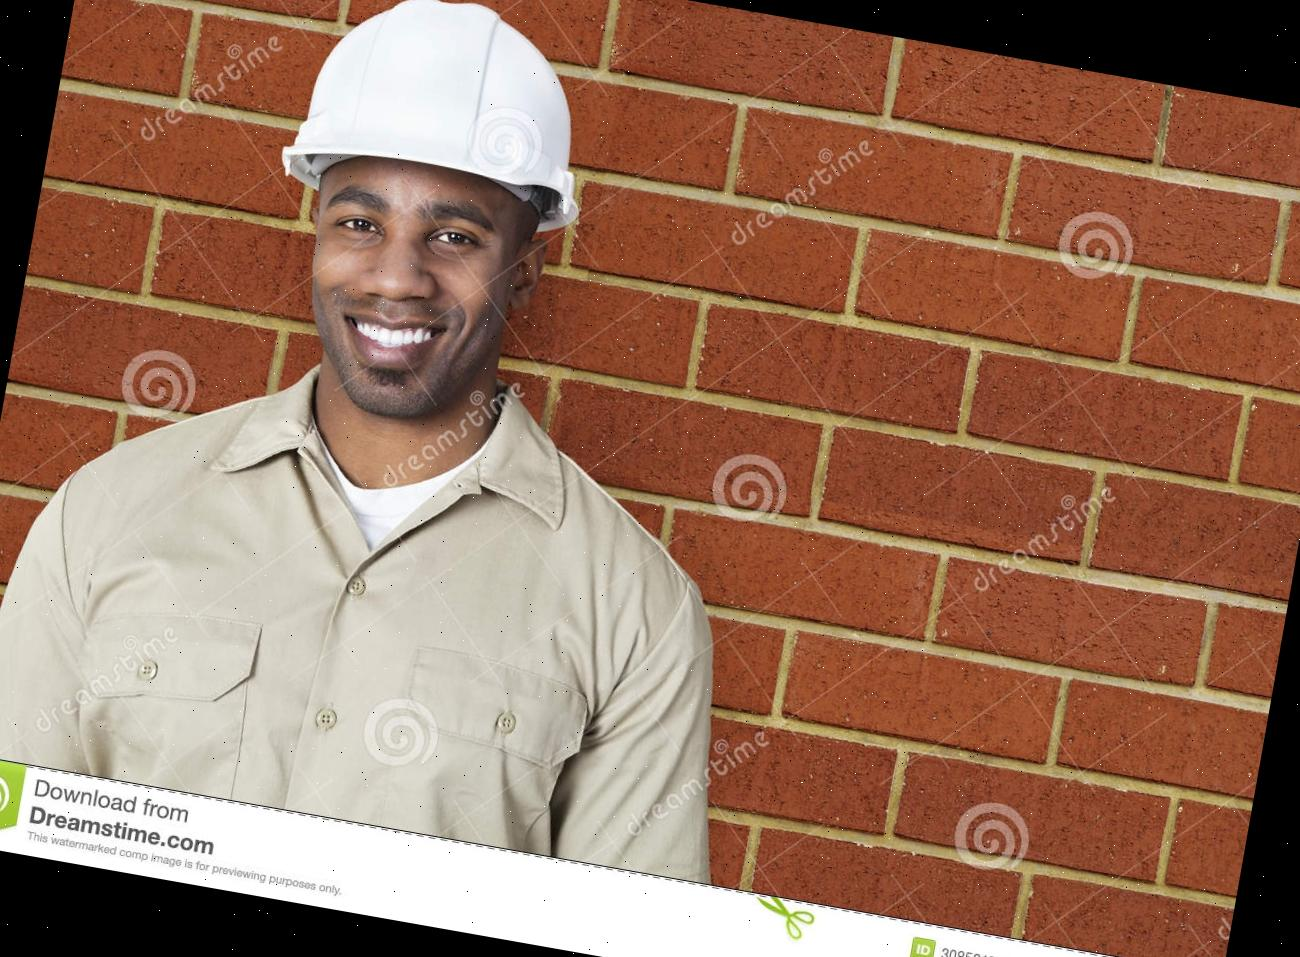helmet: (276, 0, 618, 240)
